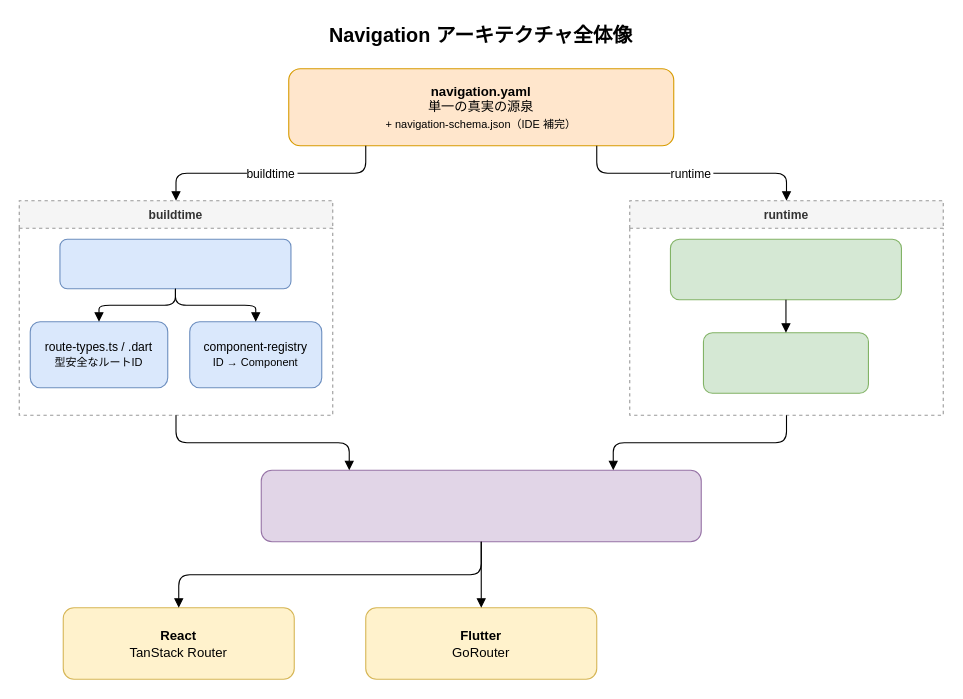
This 963x699 diagram has some shape labels left out. The box of each missing label's shape, as (x1, y1, x2, y2) in pixels:
k1s0 CLI codegen: (59, 238, 291, 289)
navigation-server GET /api/v1/navigation: (669, 238, 901, 300)
NavigationInterpreter system-client SDK: (260, 469, 701, 542)
NavigationResponse proto → JSON: (702, 332, 868, 393)
